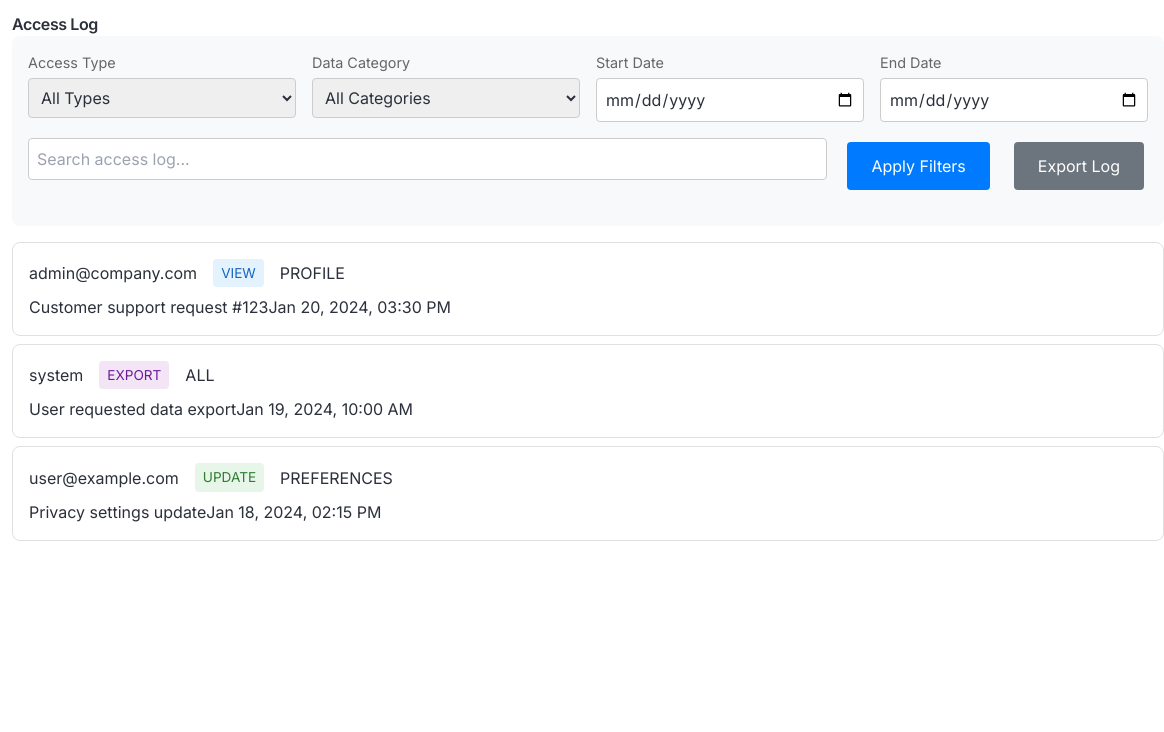
Test: AccessLog Component › should allow searching the log
The width and height of the screenshot is (1164, 732).
Type "admin" into the field with placeholder "Search access log...". click: [428, 159]
box: [28,138,827,180]
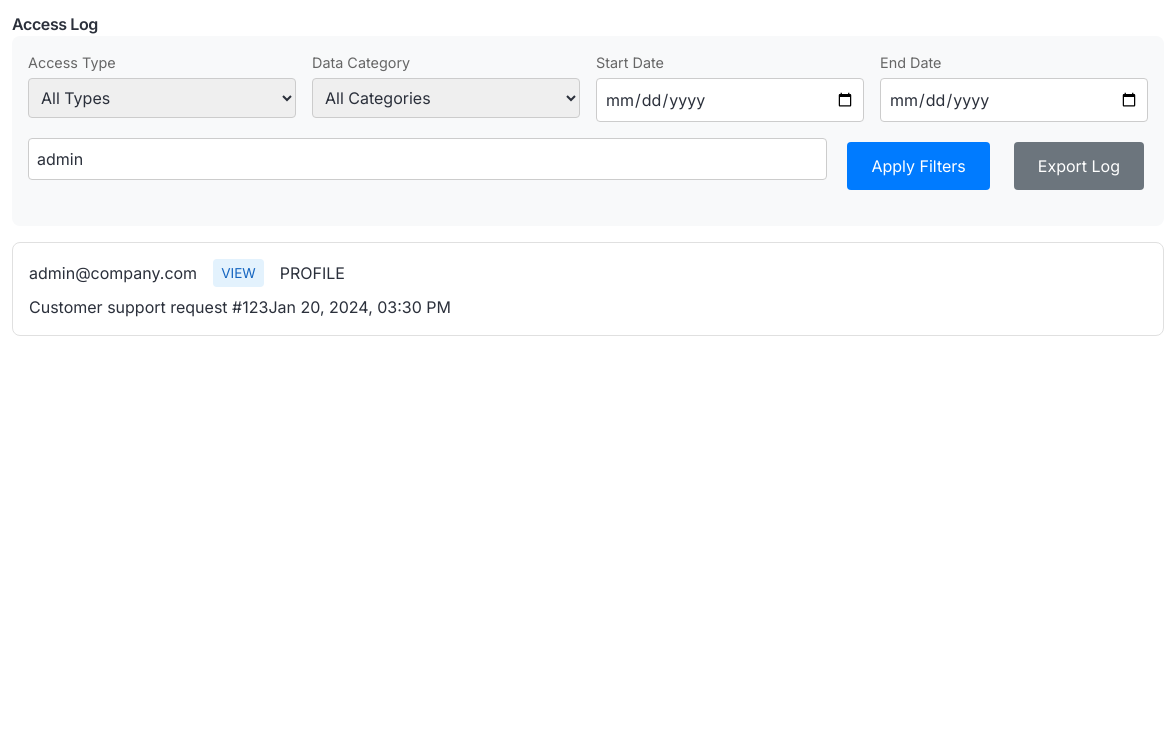
Expected: the text "admin@company.com" is shown, [29,261,197,285]
Now the text "user@example.com" is gone
